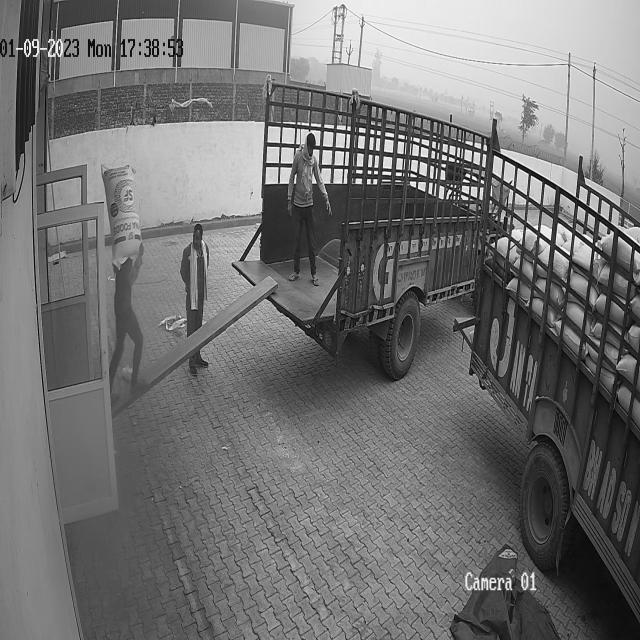sack: (100, 165, 142, 271)
